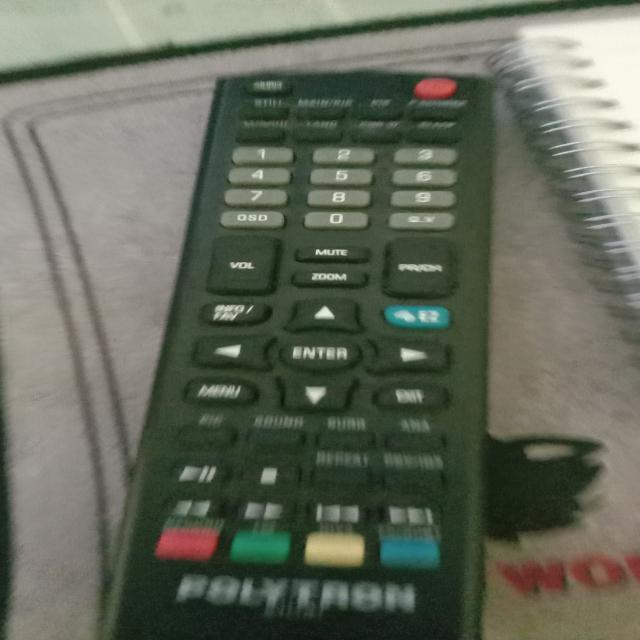remote: (105, 70, 497, 640)
